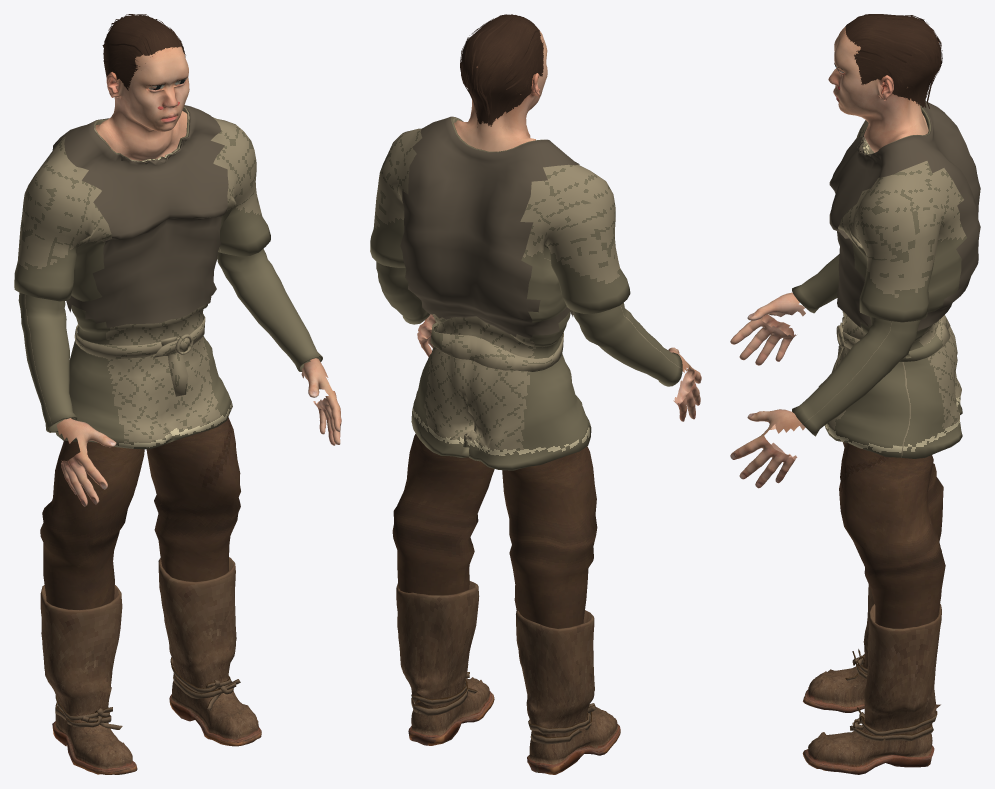
Rendered from armor-work-vest.glb.
3 views of the same model, side by side, from view 1: azimuth 30°, elevation 25°; view 2: azimuth 150°, elevation 25°; view 3: azimuth 270°, elevation 25° (orthographic).
Visible parts, largest first — view 1: armor-work-vest runtime mesh; view 2: armor-work-vest runtime mesh; view 3: armor-work-vest runtime mesh.
Boxes of the visible parts, x1=… form: armor-work-vest runtime mesh: x1=14, y1=14, x2=341, y2=774; armor-work-vest runtime mesh: x1=370, y1=14, x2=701, y2=774; armor-work-vest runtime mesh: x1=730, y1=14, x2=980, y2=774.
Bounding box in the file's own units: 0.7467 × 1.85 × 0.5857.
Materials: 9 (7 with a texture image).
